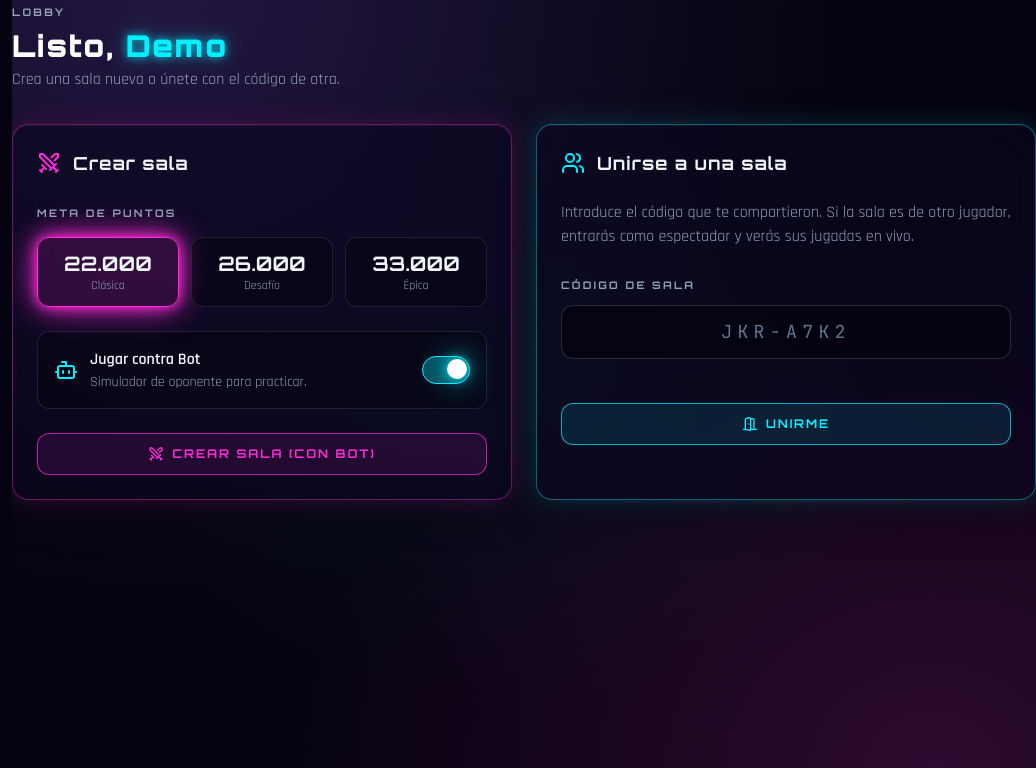
Test: Lobby (F2: salas) › validates the code format locally
This screenshot has width=1036, height=768.
Type "x" into the field labelled "Código de sala" at (786, 332), box [561,305,1011,359]
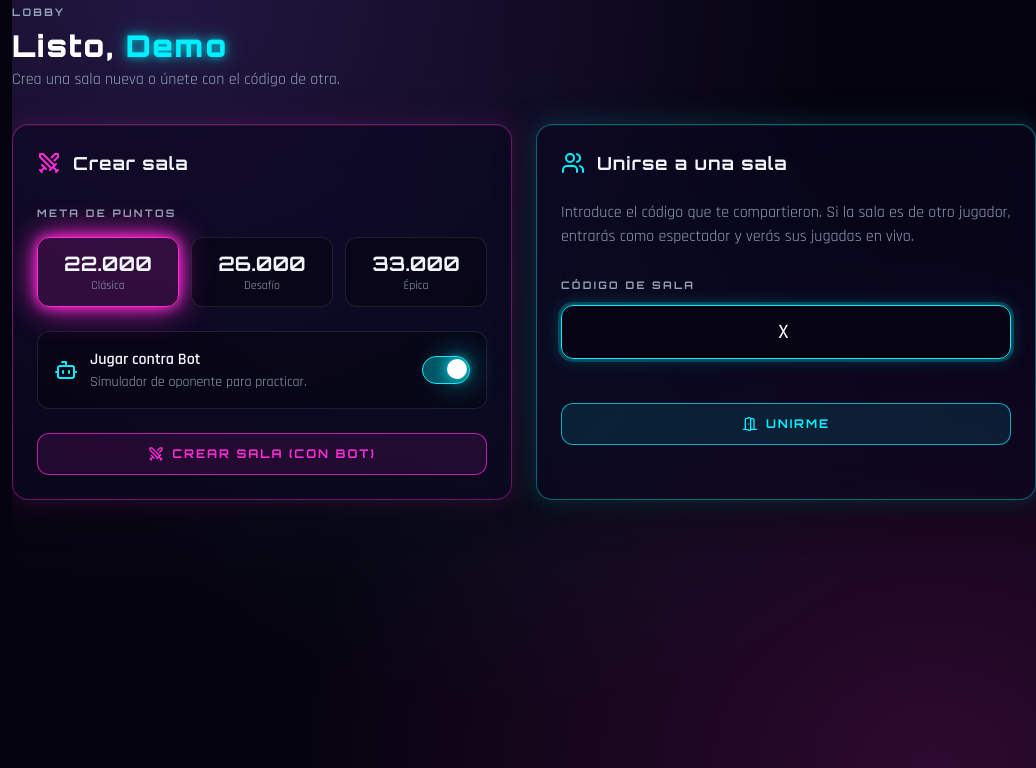
Click the button "Unirme" at (786, 424), box [561,403,1011,445]
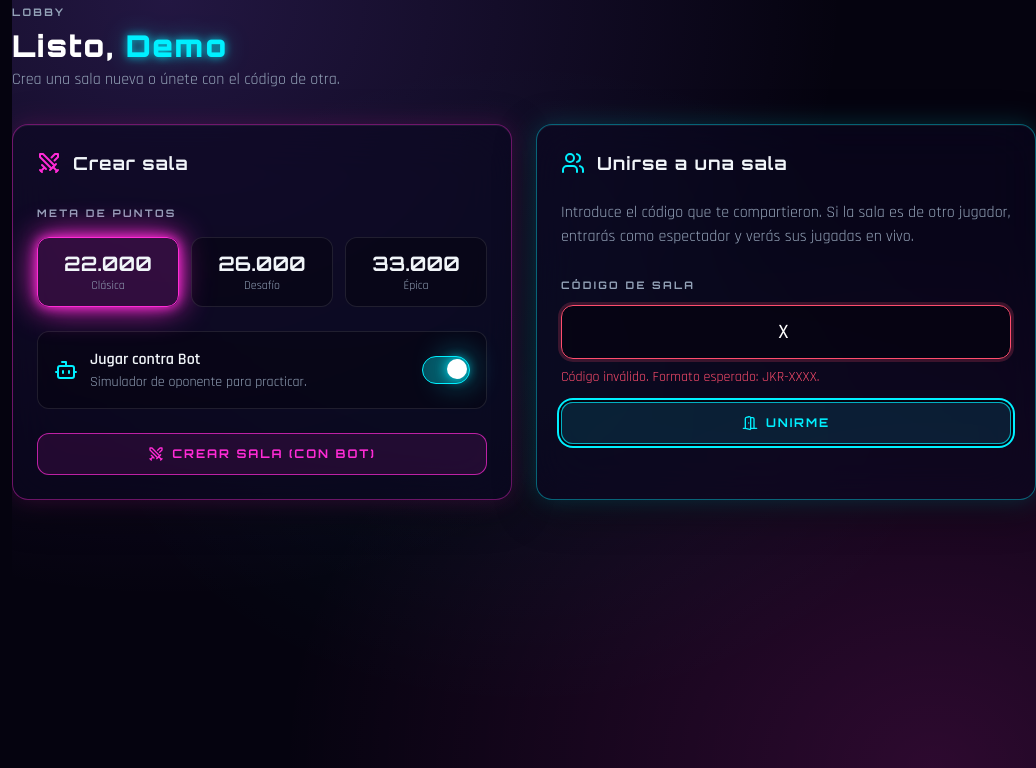
Expected: the message shows "Código inválido", [561,368,819,386]
